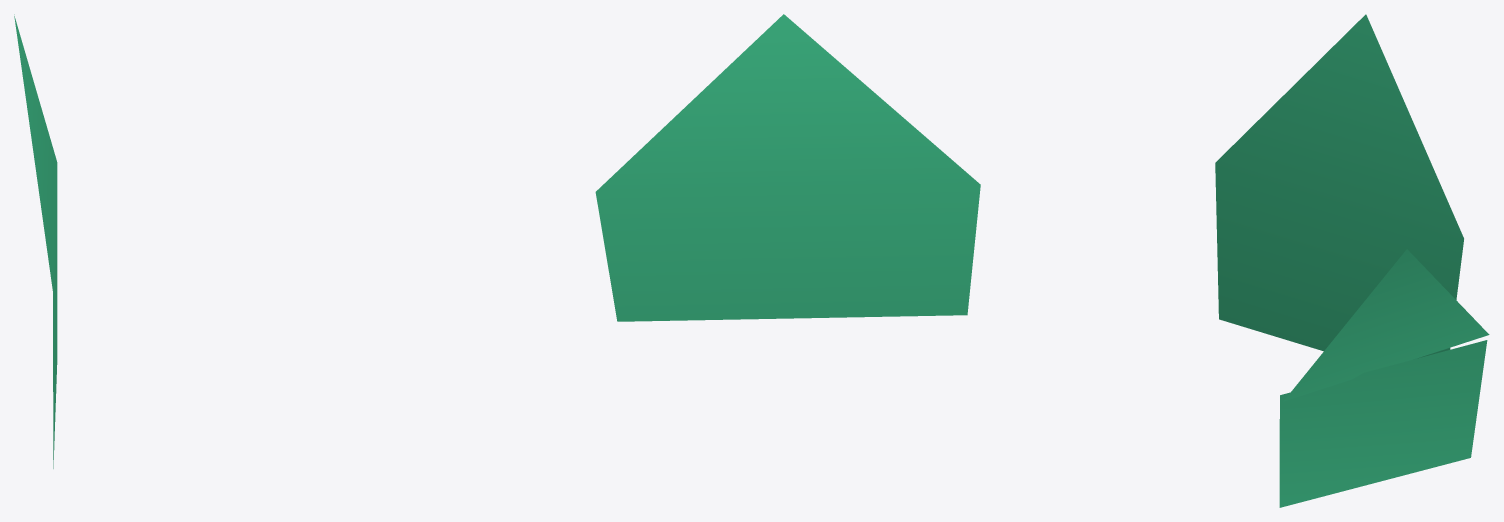
The model's file is mowed_grass_low_LOD.glb.
3 views of the same model, side by side, from view 1: azimuth 30°, elevation 25°; view 2: azimuth 150°, elevation 25°; view 3: azimuth 270°, elevation 25° (orthographic). The views are drawn at different scales.
Visible parts, largest first — view 1: Mesh grass; view 2: Mesh grass; view 3: Mesh grass.
Part boxes in pixels (x1,y1,x2,y2): Mesh grass: [14, 14, 57, 468]; Mesh grass: [595, 14, 980, 321]; Mesh grass: [1215, 14, 1489, 507].
Bounding box in the file's own units: 0.8522 × 0.8365 × 0.8751.
